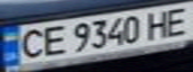0: (121, 12, 145, 44)
3: (87, 17, 112, 50)
4: (106, 15, 130, 47)
9: (66, 19, 93, 53)
C: (12, 26, 48, 60)
E: (157, 3, 193, 37), (36, 23, 69, 57)
H: (142, 7, 175, 39)
